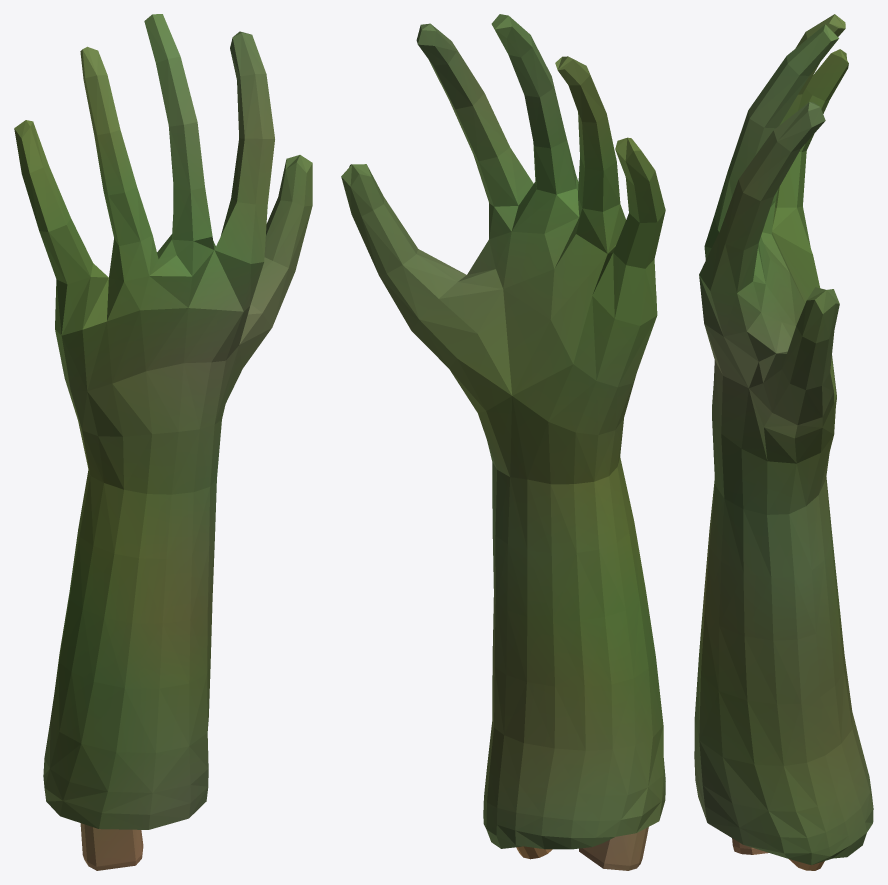
File: braccio.obj
3 renders of one model, left to right at view 1: azimuth 30°, elevation 25°; view 2: azimuth 150°, elevation 25°; view 3: azimuth 270°, elevation 25°, orthographic. The views are drawn at different scales.
Parts seen in each view (by area): view 1: Group30873, Group30888; view 2: Group30873, Group30888; view 3: Group30873.
Part boxes in pixels (bbox=[...]): Group30873: bbox=[14, 14, 312, 829]; Group30888: bbox=[80, 823, 143, 870]; Group30873: bbox=[341, 14, 665, 849]; Group30888: bbox=[579, 827, 648, 870]; Group30873: bbox=[694, 14, 873, 865].
Bounding box in the file's own units: 1.08 × 2.89 × 0.5441.
1 material, 1 textured.
